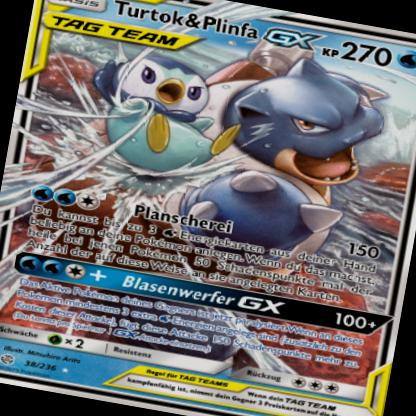Blastoise: (192, 45, 399, 256)
